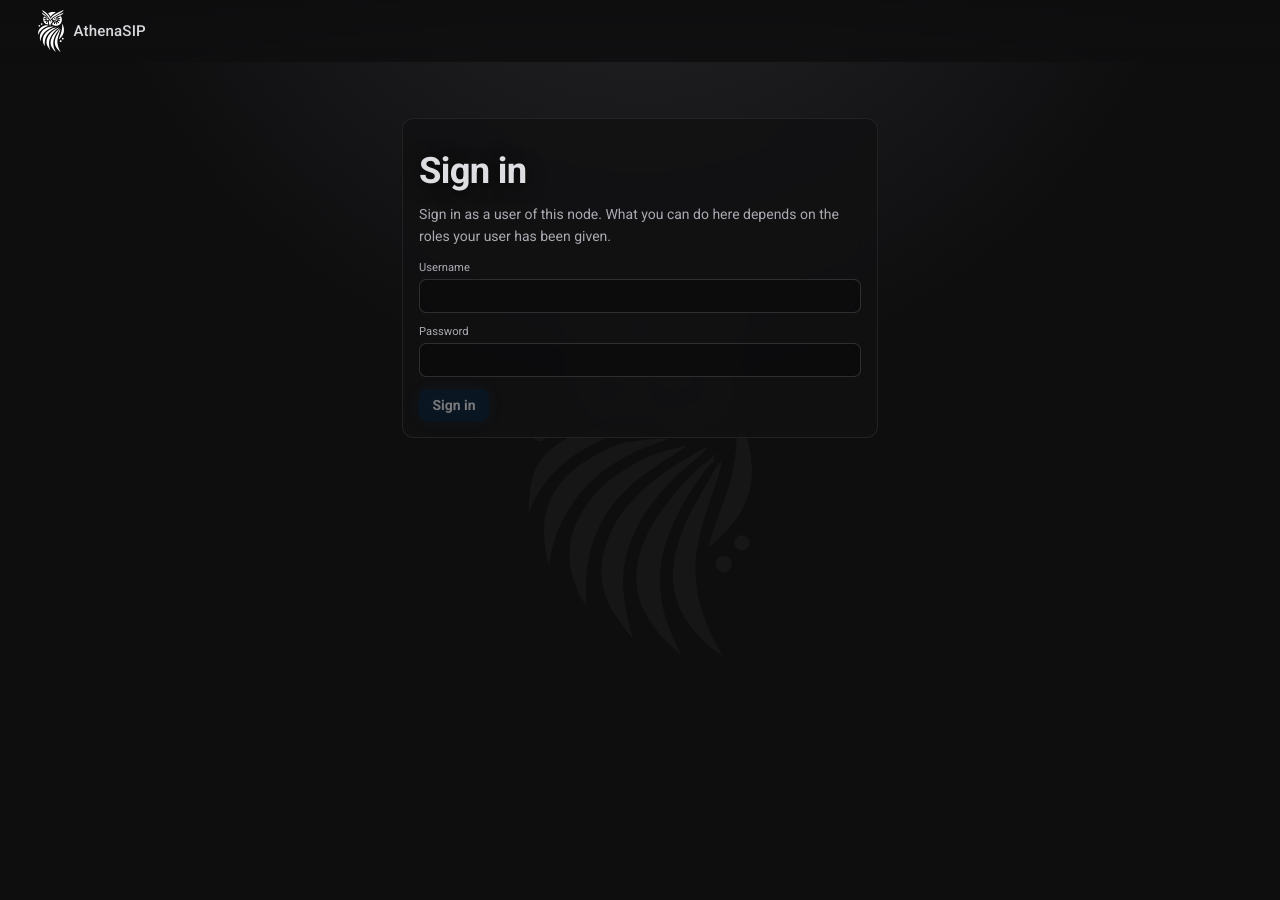
Test: App › signs in with a username and password, landing on the screen that was asked for
The image size is (1280, 900).
Type "ops" into the field labelled "Username".
click(640, 296); type("ops")  # box [419,279,861,313]
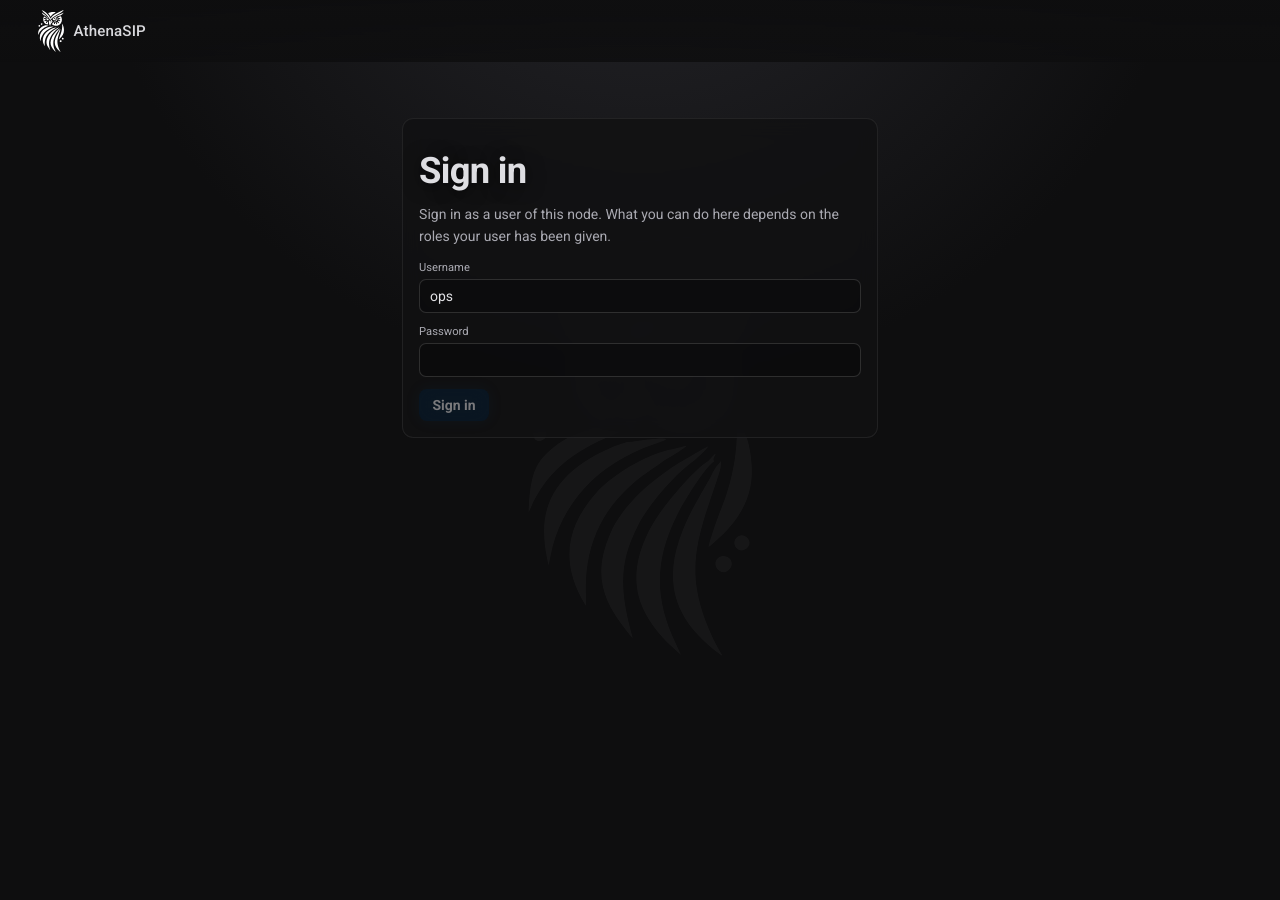
Type "ops" into the password field labelled "Password".
click(640, 360); type("ops")  # box [419,343,861,377]
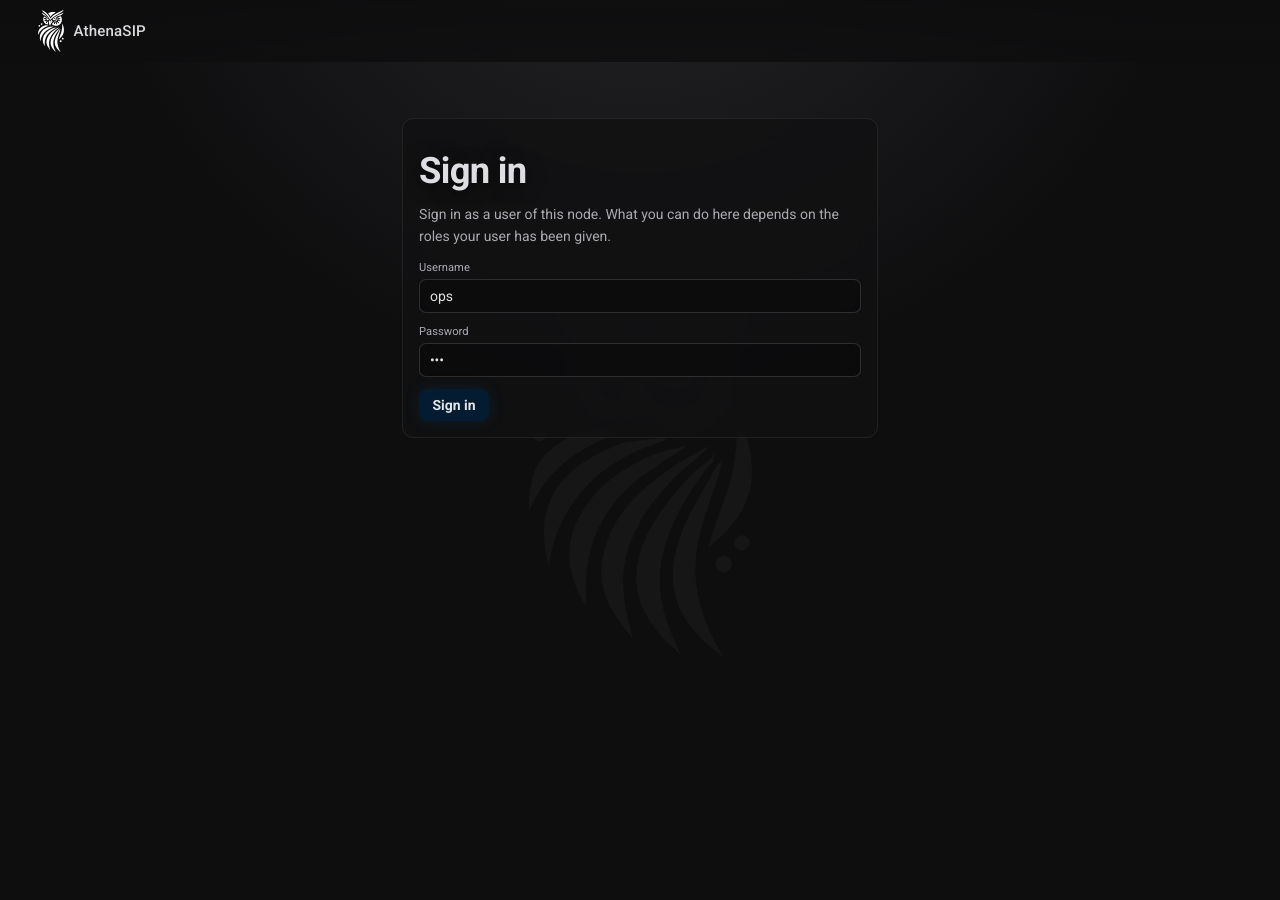
Click the button "Sign in".
click(454, 405)  # box [419,389,489,421]
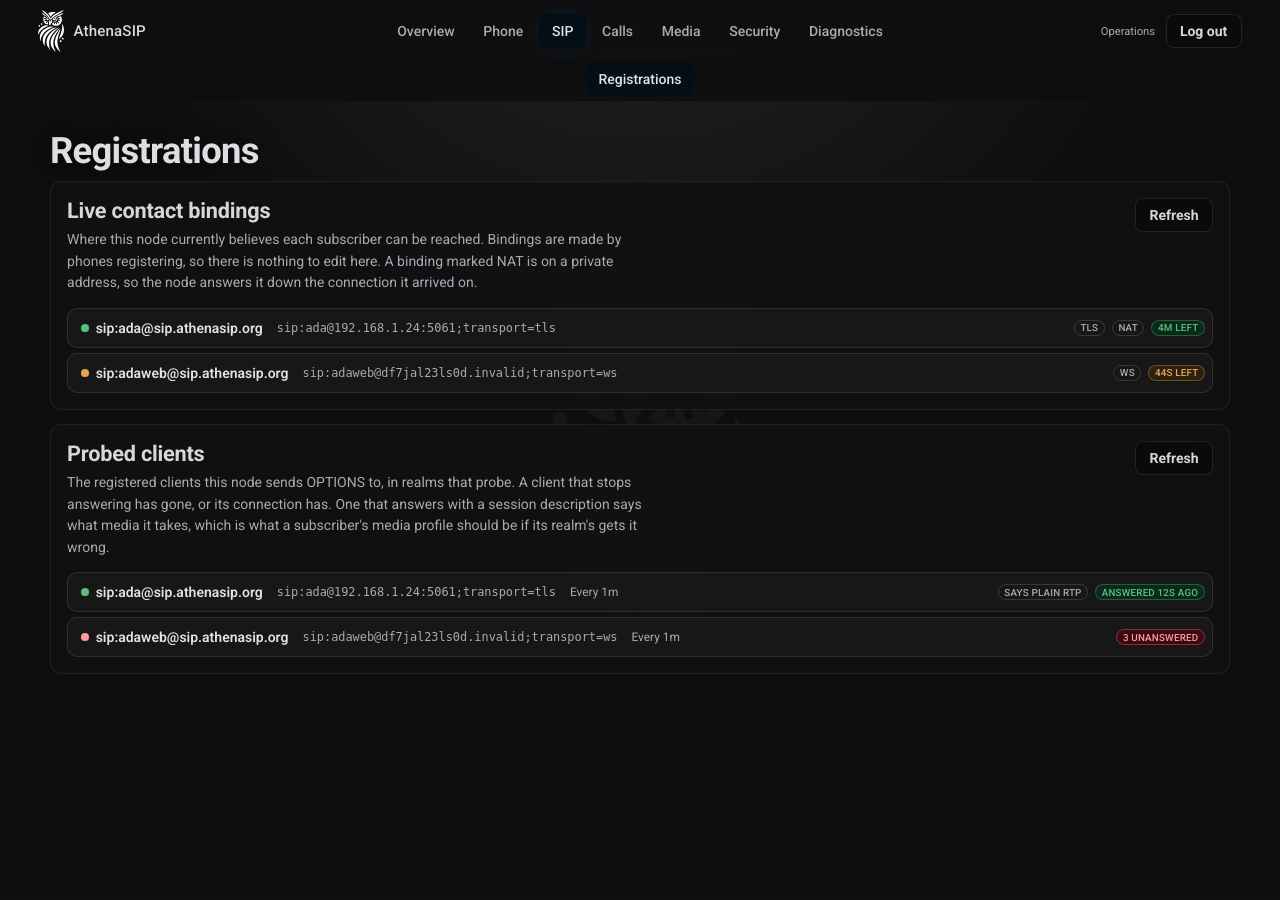
Check: the heading "Registrations" is shown, box [50,129,259,172]
Check: the link "Operations" is shown, box [1101,24,1155,38]
